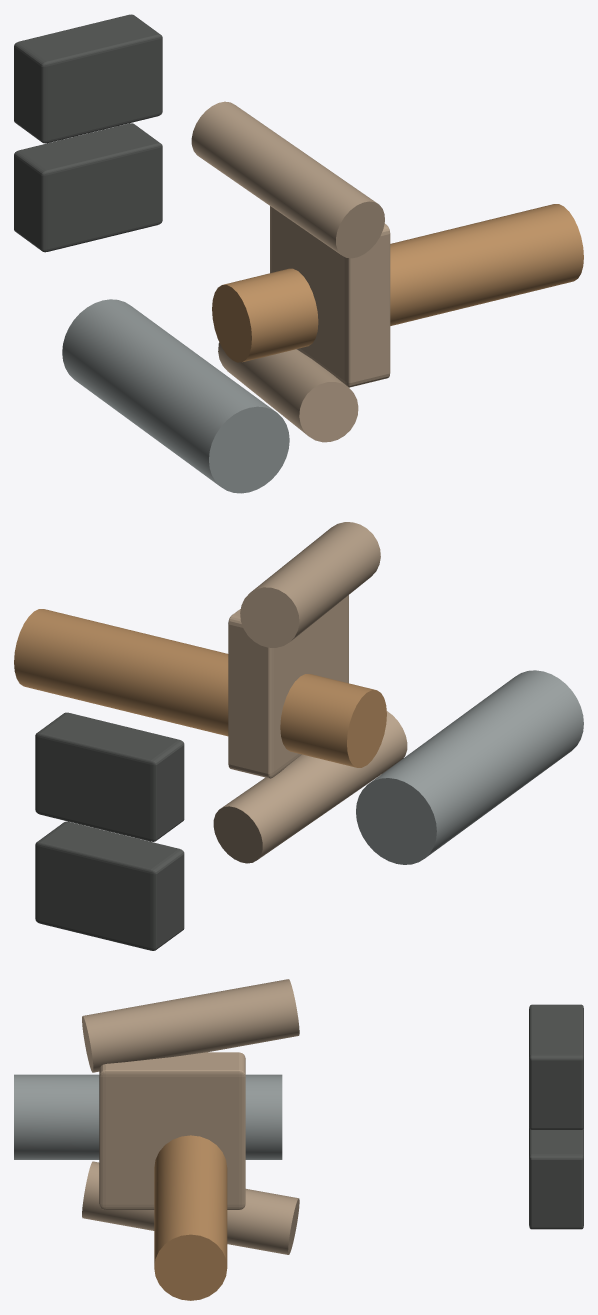
File: d-u08-dominion-flamethrower-lod2.glb
The picture shows the model from 3 angles, top to bottom: view 1: azimuth 30°, elevation 25°; view 2: azimuth 150°, elevation 25°; view 3: azimuth 270°, elevation 25°; orthographic projection. The views are drawn at different scales.
Parts seen in each view (by area): view 1: soldier_0_flamer, fuel_tank_-1, soldier_0_boot_1, soldier_0_boot_-1, soldier_0_arm_1, soldier_0_chest, soldier_0_arm_-1; view 2: soldier_0_flamer, fuel_tank_-1, soldier_0_boot_1, soldier_0_boot_-1, soldier_0_chest, soldier_0_arm_-1, soldier_0_arm_1; view 3: soldier_0_chest, soldier_0_arm_1, soldier_0_flamer, fuel_tank_-1, soldier_0_boot_1, soldier_0_boot_-1, soldier_0_arm_-1.
Boxes of the visible parts, x1=… form: soldier_0_flamer: x1=212, y1=204, x2=583, y2=362; fuel_tank_-1: x1=62, y1=299, x2=289, y2=493; soldier_0_boot_1: x1=14, y1=14, x2=162, y2=143; soldier_0_boot_-1: x1=14, y1=123, x2=162, y2=252; soldier_0_arm_1: x1=191, y1=101, x2=384, y2=258; soldier_0_chest: x1=270, y1=206, x2=390, y2=387; soldier_0_arm_-1: x1=218, y1=342, x2=358, y2=442; soldier_0_flamer: x1=14, y1=609, x2=386, y2=767; fuel_tank_-1: x1=356, y1=670, x2=583, y2=864; soldier_0_boot_1: x1=35, y1=712, x2=184, y2=841; soldier_0_boot_-1: x1=35, y1=821, x2=184, y2=950; soldier_0_chest: x1=228, y1=595, x2=348, y2=778; soldier_0_arm_-1: x1=213, y1=711, x2=407, y2=863; soldier_0_arm_1: x1=240, y1=522, x2=380, y2=647; soldier_0_chest: x1=99, y1=1052, x2=245, y2=1209; soldier_0_arm_1: x1=82, y1=979, x2=299, y2=1072; soldier_0_flamer: x1=154, y1=1135, x2=227, y2=1300; fuel_tank_-1: x1=14, y1=1074, x2=282, y2=1159; soldier_0_boot_1: x1=529, y1=1004, x2=583, y2=1129; soldier_0_boot_-1: x1=529, y1=1126, x2=583, y2=1229; soldier_0_arm_-1: x1=82, y1=1161, x2=299, y2=1254.
Size of what is drawn, in the model's own units: 1.56 by 0.9312 by 1.87.
